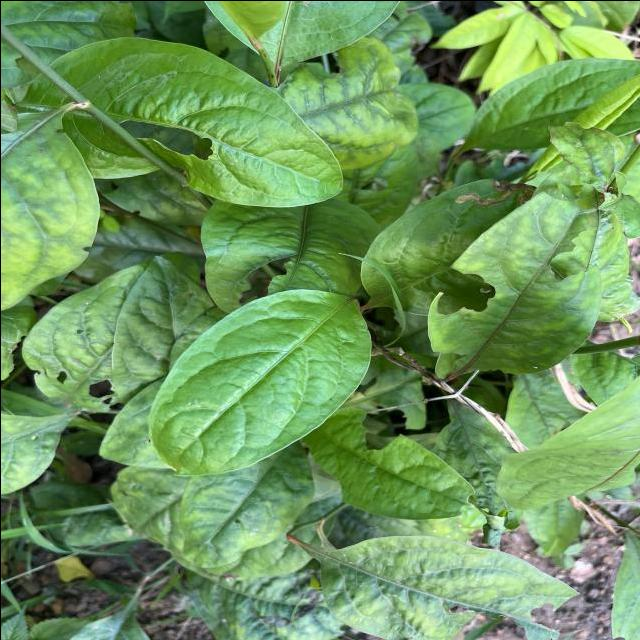Plumbago indica: (22, 32, 346, 208), (148, 286, 376, 480)
